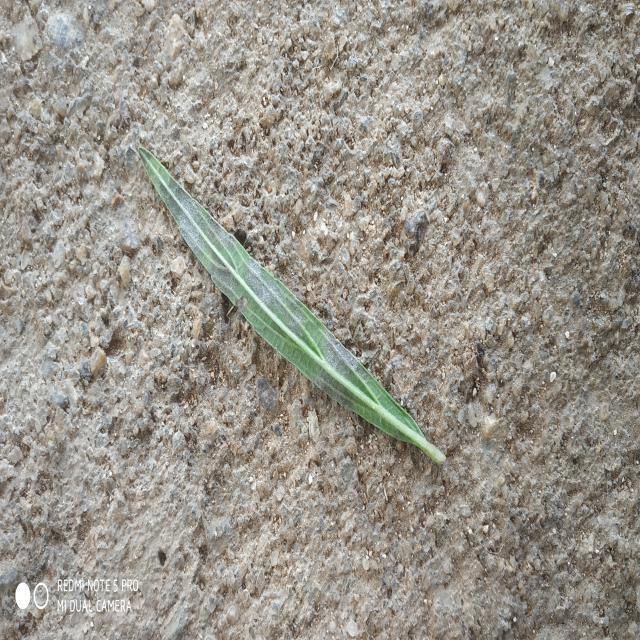defectedthambe: (139, 147, 259, 304)
thambe: (140, 147, 445, 464)
